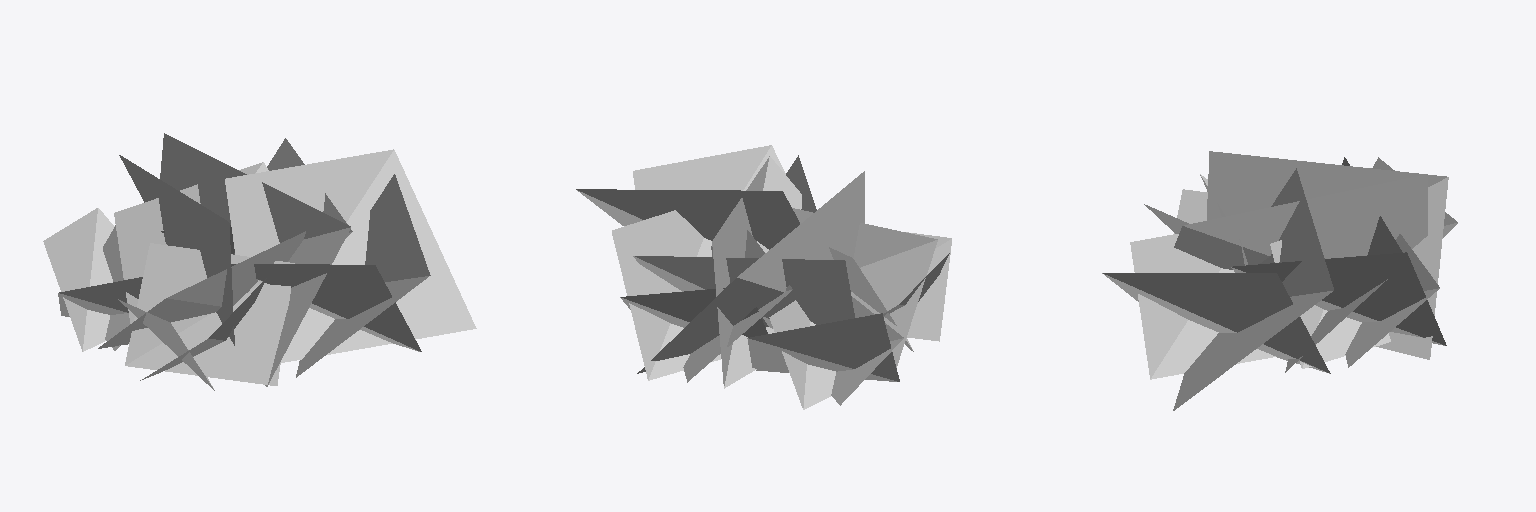
The model's file is volcanictundragrassobj02.obj.
3 views of the same model, side by side, from view 1: azimuth 30°, elevation 25°; view 2: azimuth 150°, elevation 25°; view 3: azimuth 270°, elevation 25° (orthographic).
Parts seen in each view (by area): view 1: VolcanicGrassObj02_0; view 2: VolcanicGrassObj02_0; view 3: VolcanicGrassObj02_0.
Part boxes in pixels (x1,y1,x2,y2): VolcanicGrassObj02_0: (43, 133, 476, 390); VolcanicGrassObj02_0: (576, 145, 951, 409); VolcanicGrassObj02_0: (1102, 151, 1457, 410).
Bounding box in the file's own units: 81.75 × 35.92 × 75.62.